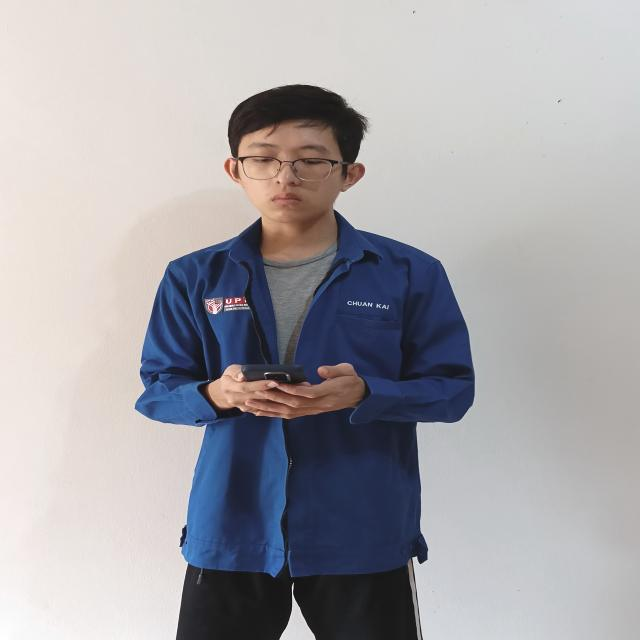person_with_labcoat: (136, 85, 474, 640)
